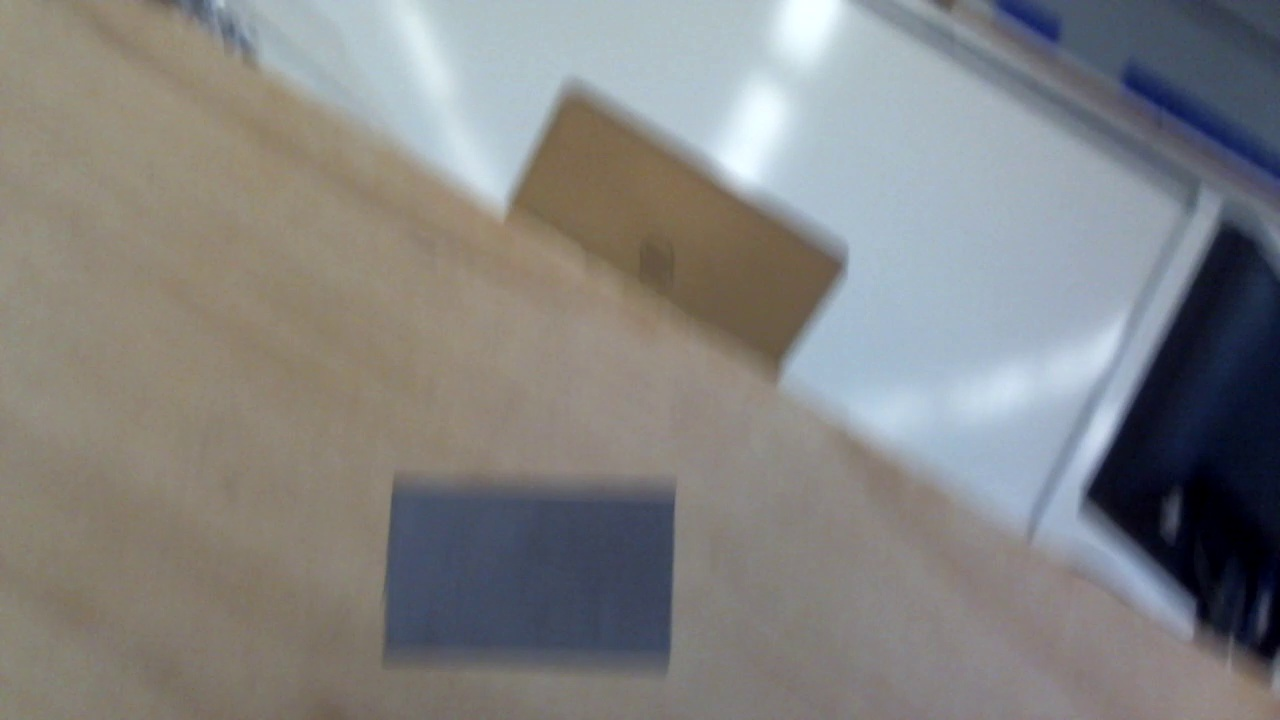Tape: (382, 475, 676, 677)
